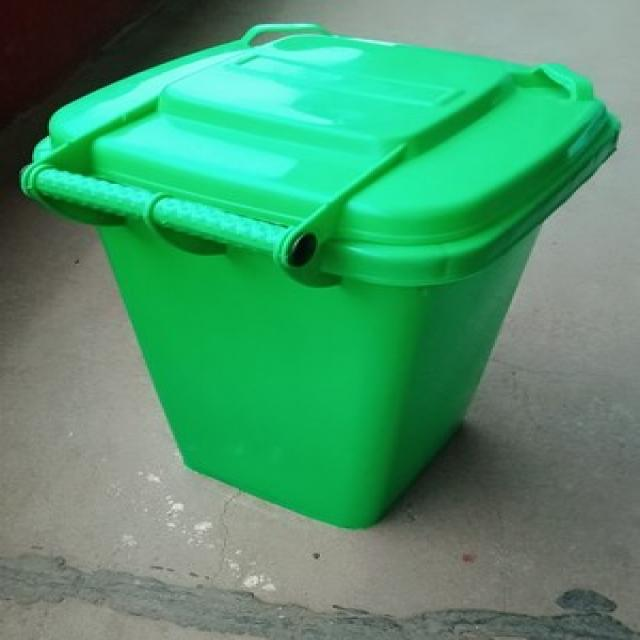ash bin: (17, 16, 627, 531)
